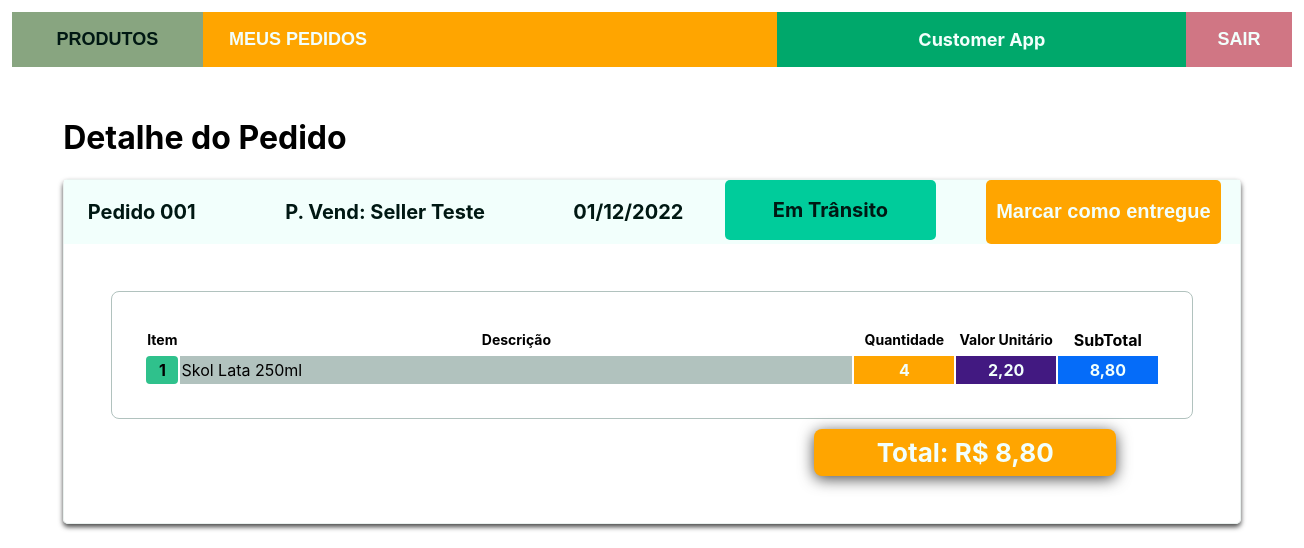
it: Testa se botão de entrega com status em trânsito › Verifica se botão está habilitado
Click the button with test id "customer_order_details__button-delivery-check".
click(1103, 212)  # box [986, 180, 1221, 244]
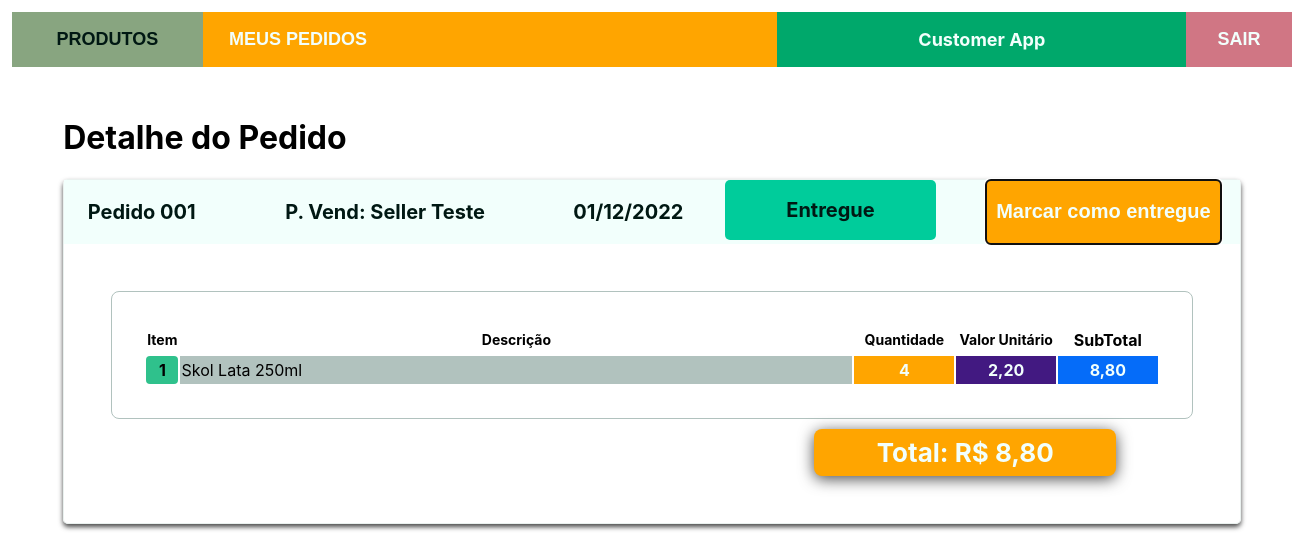
Now the text "Entregue" is shown, box [725, 180, 936, 240]
